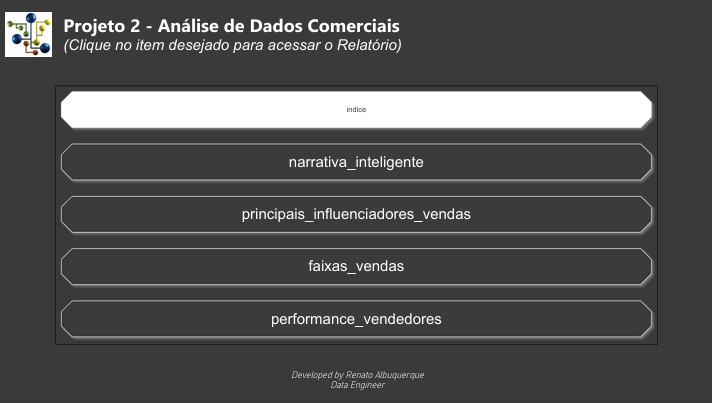

The page's visual inventory and layout, read from the dashboard file:
{"tool":"powerbi","page":{"name":"indice","canvas":[1280,720],"ordinal":0},"visuals":[{"type":"image","box":[0,19,112.1,89.7],"z":0},{"type":"textbox","box":[112.1,19,1003.4,115.5],"z":1000},{"type":"pageNavigator","box":[103.4,155.2,1070.7,460.3],"z":2000},{"type":"textbox","box":[489.7,667.2,300,53.4],"z":3000},{"type":"textbox","box":[489.7,653.4,300,53.4],"z":4000}]}

Visuals, with their boxes in screenshot pixels (x1, y1, x2, y2), scaled from the page's 1280x720 canvas onto the 712x403 screenshot:
image: 0, 11, 62, 61
textbox: 62, 11, 620, 75
pageNavigator: 58, 87, 653, 345
textbox: 272, 373, 439, 402
textbox: 272, 366, 439, 396
